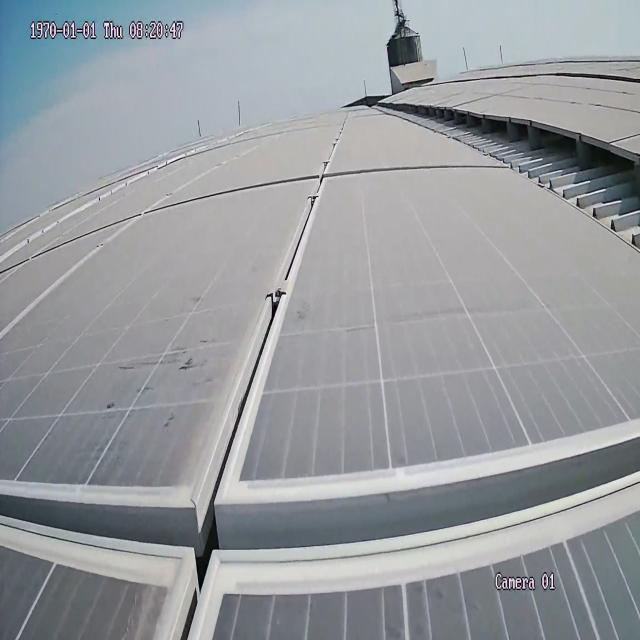interior panel: (0, 126, 640, 640)
outher panel: (371, 97, 639, 261)
